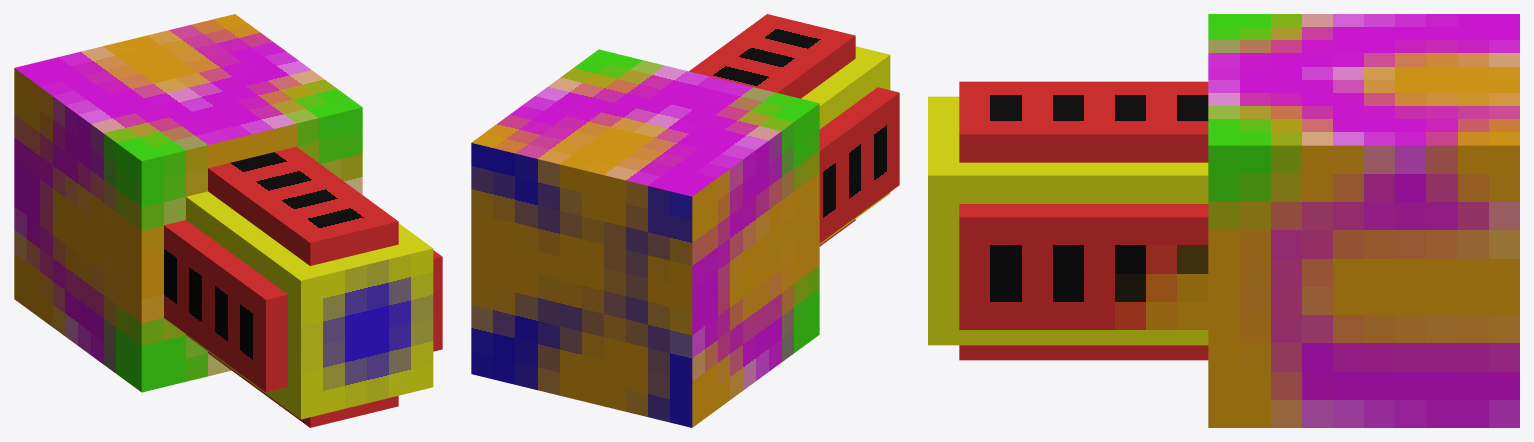
The model's file is idk.obj.
The picture shows the model from 3 angles, left to right: view 1: azimuth 30°, elevation 25°; view 2: azimuth 150°, elevation 25°; view 3: azimuth 270°, elevation 25°; orthographic projection. The views are drawn at different scales.
Parts seen in each view (by area): view 1: cube; view 2: cube; view 3: cube.
Boxes of the visible parts, x1,y1,x2,y2 form: cube: (14,14,442,427); cube: (471,14,899,427); cube: (928,14,1519,427).
Size of the model in its own units: 0.625 by 0.625 by 1.19.
Materials: 1 (1 with a texture image).
